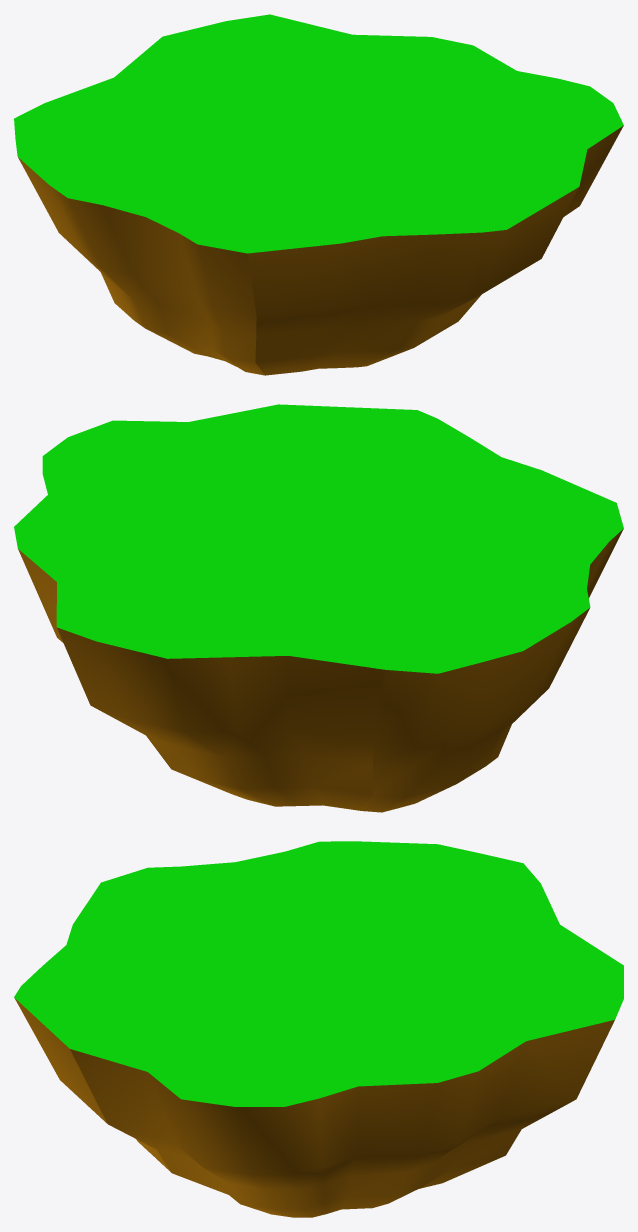
The model's file is SM_TreeIsland.fbx.
3 views of the same model, one above another, from view 1: azimuth 30°, elevation 25°; view 2: azimuth 150°, elevation 25°; view 3: azimuth 270°, elevation 25° (orthographic). The views are drawn at different scales.
Parts seen in each view (by area): view 1: SM_Tree_Island; view 2: SM_Tree_Island; view 3: SM_Tree_Island.
Part boxes in pixels (bbox=[...]): SM_Tree_Island: bbox=[14, 14, 623, 375]; SM_Tree_Island: bbox=[14, 404, 623, 812]; SM_Tree_Island: bbox=[14, 841, 623, 1217].
Bounding box in the file's own units: 13411 × 4791 × 13012.
